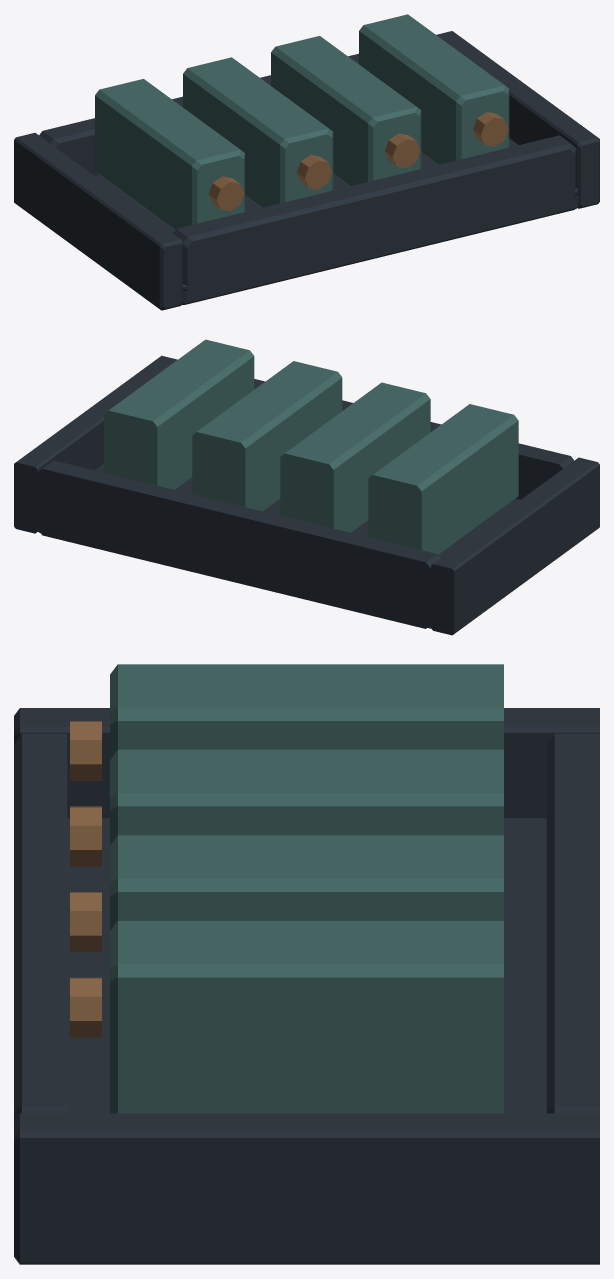
The model's file is F-19_test_plugs.glb.
The picture shows the model from 3 angles, top to bottom: view 1: azimuth 30°, elevation 25°; view 2: azimuth 150°, elevation 25°; view 3: azimuth 270°, elevation 25°; orthographic projection. The views are drawn at different scales.
Visible parts, largest first — view 1: F-19_test_plugs; view 2: F-19_test_plugs; view 3: F-19_test_plugs.
Boxes of the visible parts, x1=… form: F-19_test_plugs: x1=14, y1=14, x2=599, y2=310; F-19_test_plugs: x1=14, y1=339, x2=599, y2=635; F-19_test_plugs: x1=14, y1=664, x2=599, y2=1264.
Size of the model in its own units: 0.38 by 0.097 by 0.22.
